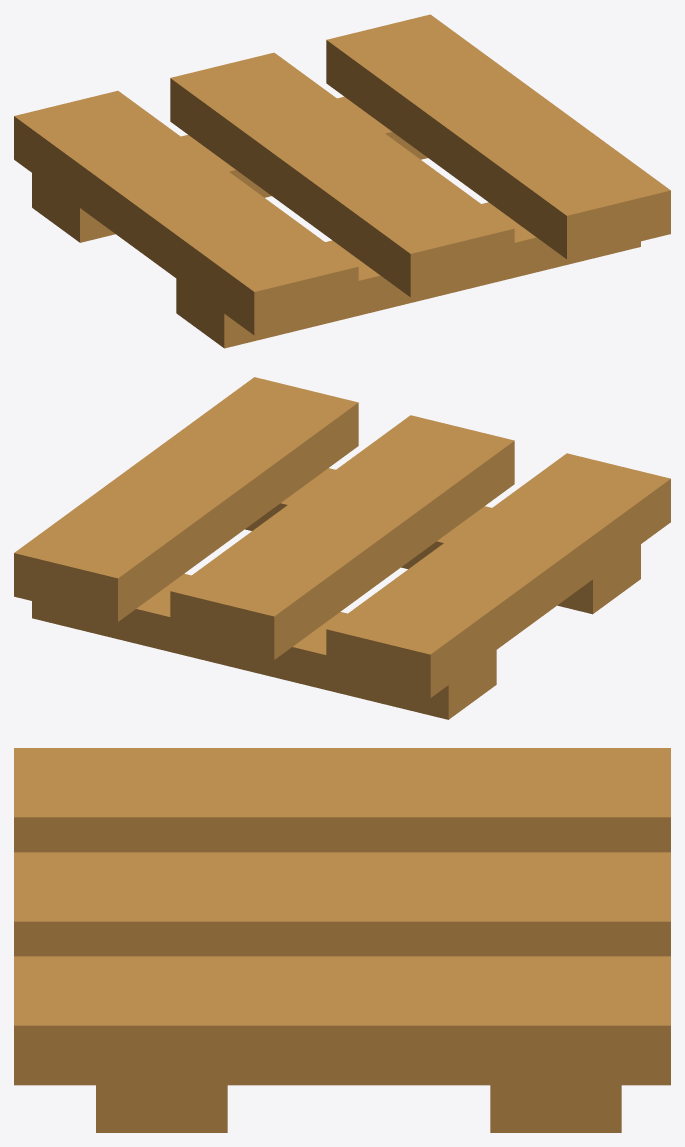
Rendered from Bridge tile.fbx.
The picture shows the model from 3 angles, top to bottom: view 1: azimuth 30°, elevation 25°; view 2: azimuth 150°, elevation 25°; view 3: azimuth 270°, elevation 25°; orthographic projection. The views are drawn at different scales.
Parts seen in each view (by area): view 1: Bridge piece; view 2: Bridge piece; view 3: Bridge piece.
Part boxes in pixels (bbox=[...]): Bridge piece: bbox=[14, 14, 670, 348]; Bridge piece: bbox=[14, 377, 670, 719]; Bridge piece: bbox=[14, 748, 670, 1132].
Size of the model in its own units: 100 by 18 by 100.
